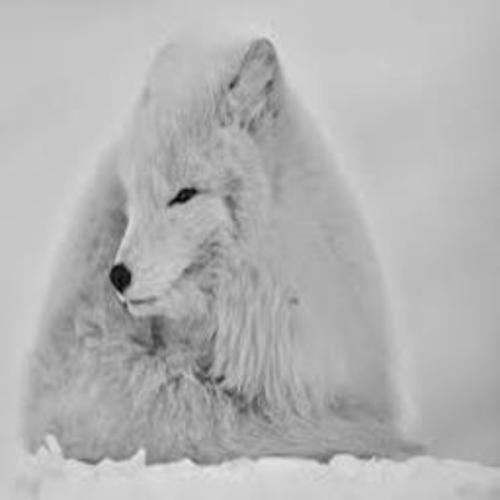arctic_fox-endangered: (18, 36, 421, 455)
